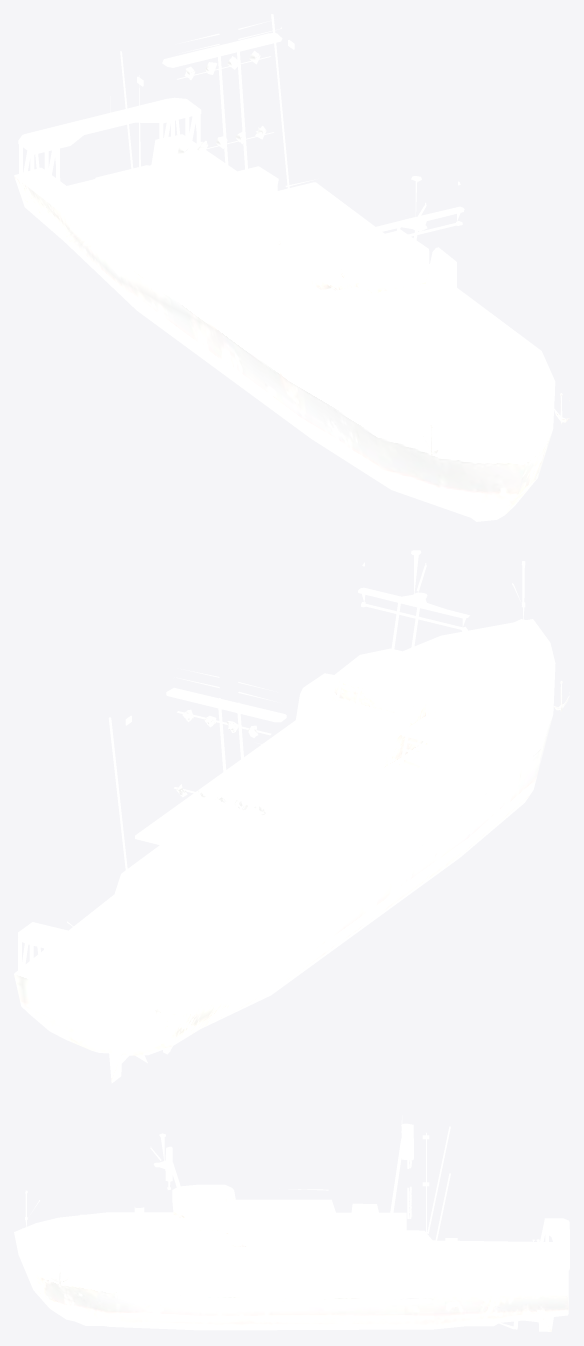
File: trawler-big.zfix-v14.lod0.glb
The picture shows the model from 3 angles, top to bottom: view 1: azimuth 30°, elevation 25°; view 2: azimuth 150°, elevation 25°; view 3: azimuth 270°, elevation 25°; orthographic projection. The views are drawn at different scales.
Parts seen in each view (by area): view 1: Fan_1_Default_0; view 2: Fan_1_Default_0; view 3: Fan_1_Default_0.
Part boxes in pixels (x1,y1,x2,y2): Fan_1_Default_0: (14,14,569,521); Fan_1_Default_0: (14,550,569,1083); Fan_1_Default_0: (14,1115,569,1331).
Size of the model in its own units: 6.23 by 10.48 by 25.99.
Materials: 1 (1 with a texture image).
